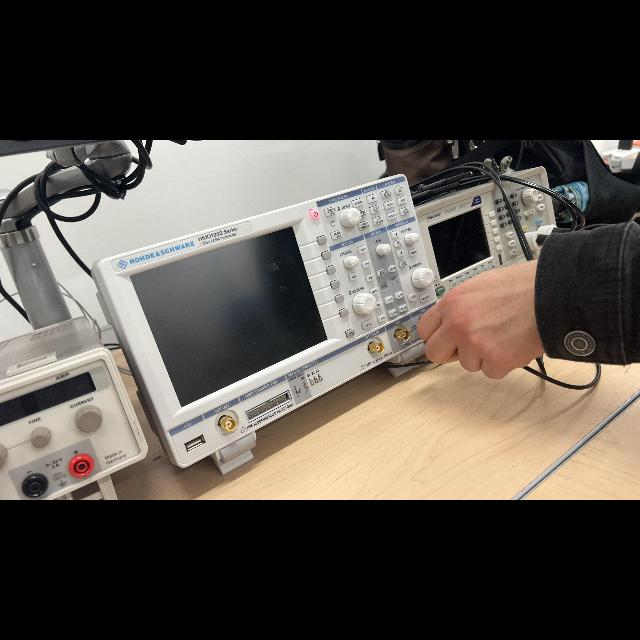Digital-Oscilloscope: (93, 175, 436, 474)
